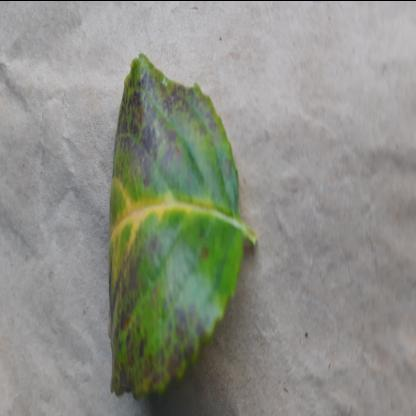downy-mildew: (110, 53, 246, 402)
